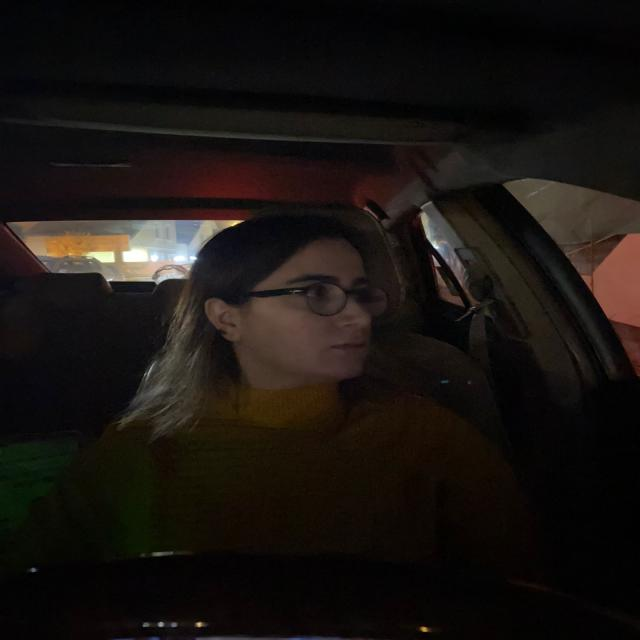person: (200, 234, 396, 392)
